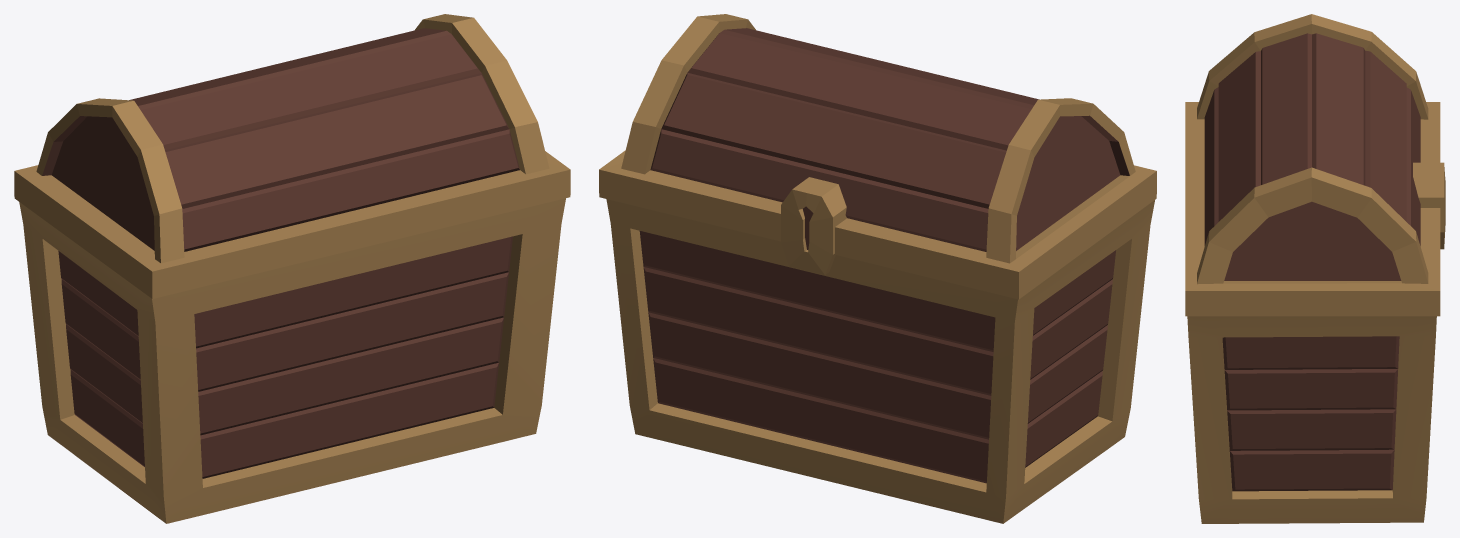
The model's file is Chest Mesh.FBX.
3 renders of one model, left to right at view 1: azimuth 30°, elevation 25°; view 2: azimuth 150°, elevation 25°; view 3: azimuth 270°, elevation 25°, orthographic. The views are drawn at different scales.
Parts seen in each view (by area): view 1: Object003, Object002; view 2: Object003, Object002; view 3: Object002, Object003.
Boxes of the visible parts, x1,y1,x2,y2 form: Object003: (19,198,565,523); Object002: (14,14,570,298); Object003: (606,199,1154,523); Object002: (599,14,1156,299); Object002: (1185,14,1445,316); Object003: (1187,316,1436,523).
Size of the model in its own units: 85.38 by 72.72 by 49.64.
